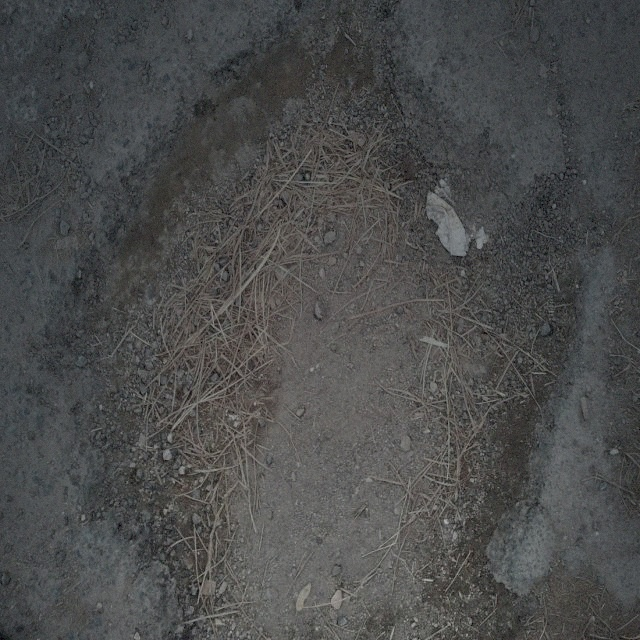pothole: (71, 31, 587, 600)
